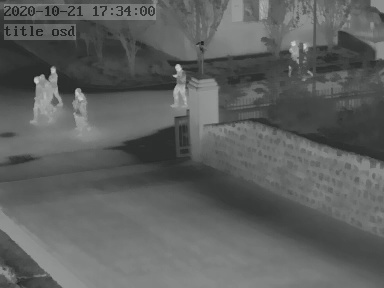person: (73, 90, 92, 133), (31, 71, 47, 121), (172, 62, 190, 105), (47, 66, 62, 114), (290, 41, 300, 66)
